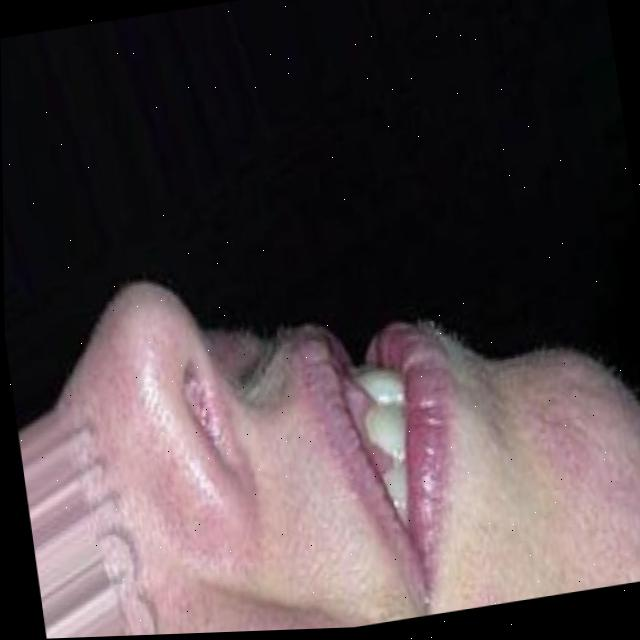Rosacea: (81, 299, 233, 573), (520, 397, 640, 573)
